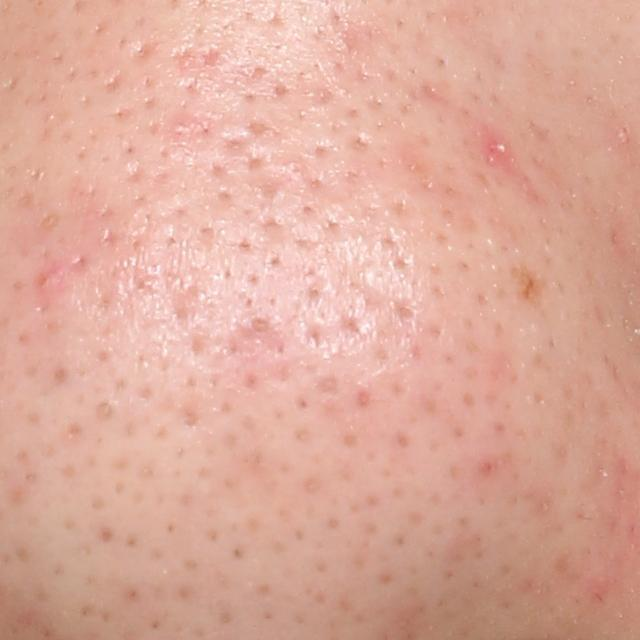atrophic_scar: (126, 36, 166, 64)
nevus: (505, 257, 548, 310)
